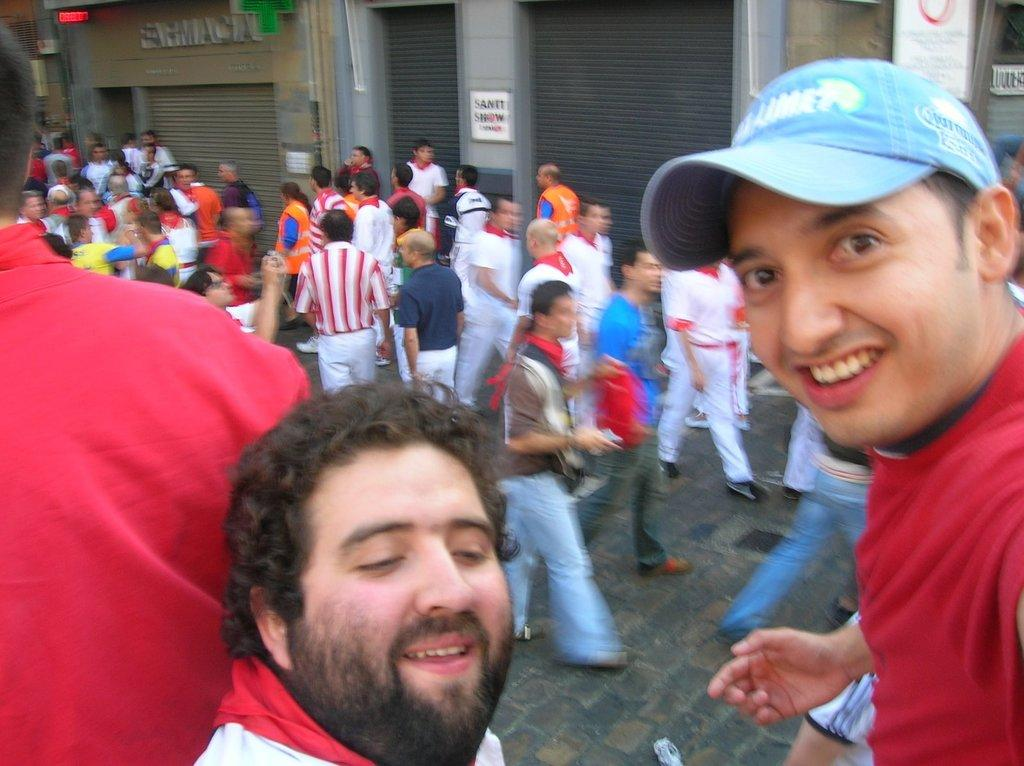Hat: (640, 56, 1002, 271)
